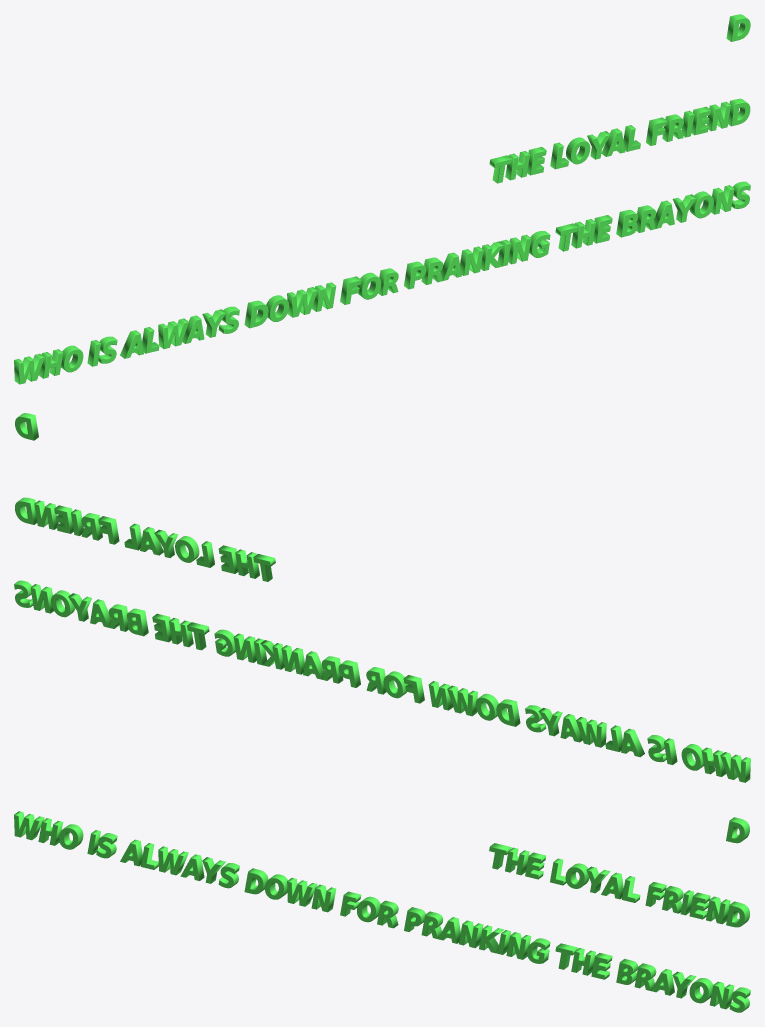
File: DIntroductionLong.fbx
3 renders of one model, top to bottom at view 1: azimuth 30°, elevation 25°; view 2: azimuth 150°, elevation 25°; view 3: azimuth 330°, elevation 25°, orthographic.
Parts seen in each view (by area): view 1: D_introduction_long; view 2: D_introduction_long; view 3: D_introduction_long.
Part boxes in pixels (x1,y1,x2,y2): D_introduction_long: [14, 14, 750, 384]; D_introduction_long: [14, 413, 750, 782]; D_introduction_long: [14, 811, 750, 1012].
Size of the model in its own units: 1817 by 451 by 23.29.
